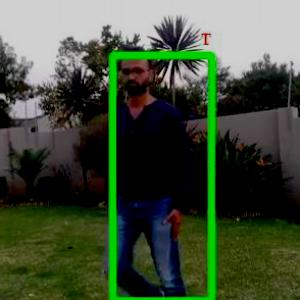follow: (101, 36, 192, 299)
